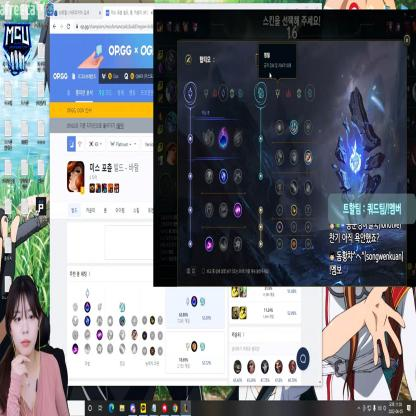streamer: (0, 274, 70, 416)
